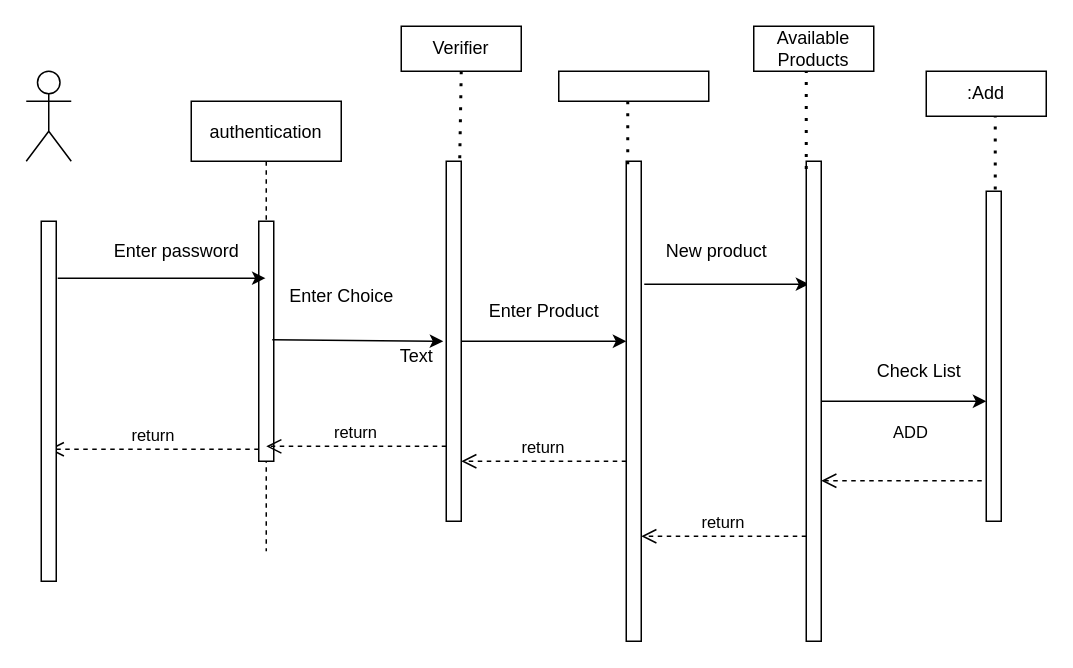
Some shapes in this 1073 by 668 pixel diagram are drawn without their labels. The shapes that lost their labels are listed below. From the top down, each one's centre as x and y in pixels, then its label:
(x=633, y=85): Catalouge
(x=48, y=115): Actor
